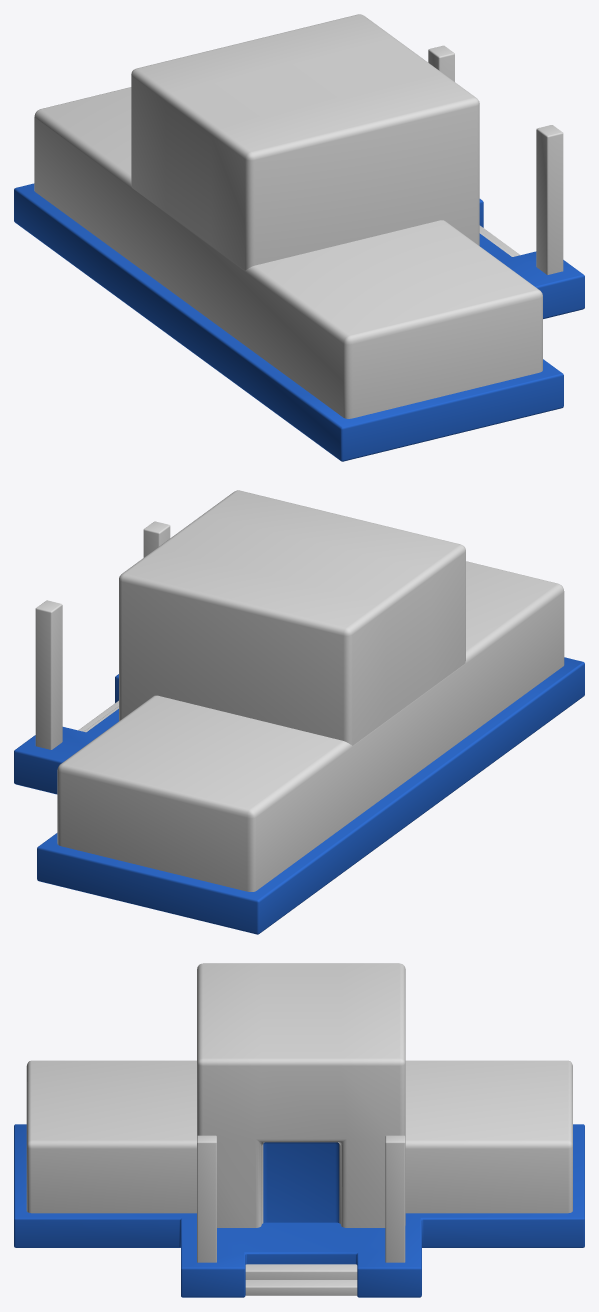
File: PIP_nursing-home-3d-4.glb
The picture shows the model from 3 angles, top to bottom: view 1: azimuth 30°, elevation 25°; view 2: azimuth 150°, elevation 25°; view 3: azimuth 270°, elevation 25°; orthographic projection. The views are drawn at different scales.
Parts seen in each view (by area): view 1: Cube.143, Cube.144, Cube.146, Cube.151, Cube.150; view 2: Cube.143, Cube.144, Cube.146, Cube.150, Cube.151; view 3: Cube.144, Cube.143, Cube.146, Cube.150, Cube.151, Cube.149, Cube.148.
Part boxes in pixels (x1,y1,x2,y2): Cube.143: (131, 14, 479, 270); Cube.144: (34, 87, 542, 418); Cube.146: (14, 183, 584, 461); Cube.151: (536, 125, 563, 274); Cube.150: (428, 45, 454, 81); Cube.143: (119, 490, 465, 745); Cube.144: (57, 561, 564, 891); Cube.146: (14, 657, 584, 934); Cube.150: (35, 600, 62, 749); Cube.151: (143, 521, 170, 557); Cube.144: (26, 1060, 572, 1213); Cube.143: (197, 963, 405, 1227); Cube.146: (14, 1124, 584, 1297); Cube.150: (385, 1135, 405, 1262); Cube.151: (197, 1135, 216, 1262); Cube.149: (245, 1280, 357, 1295); Cube.148: (245, 1264, 357, 1279).
Size of the model in its own units: 0.8038 by 0.5128 by 1.34.
